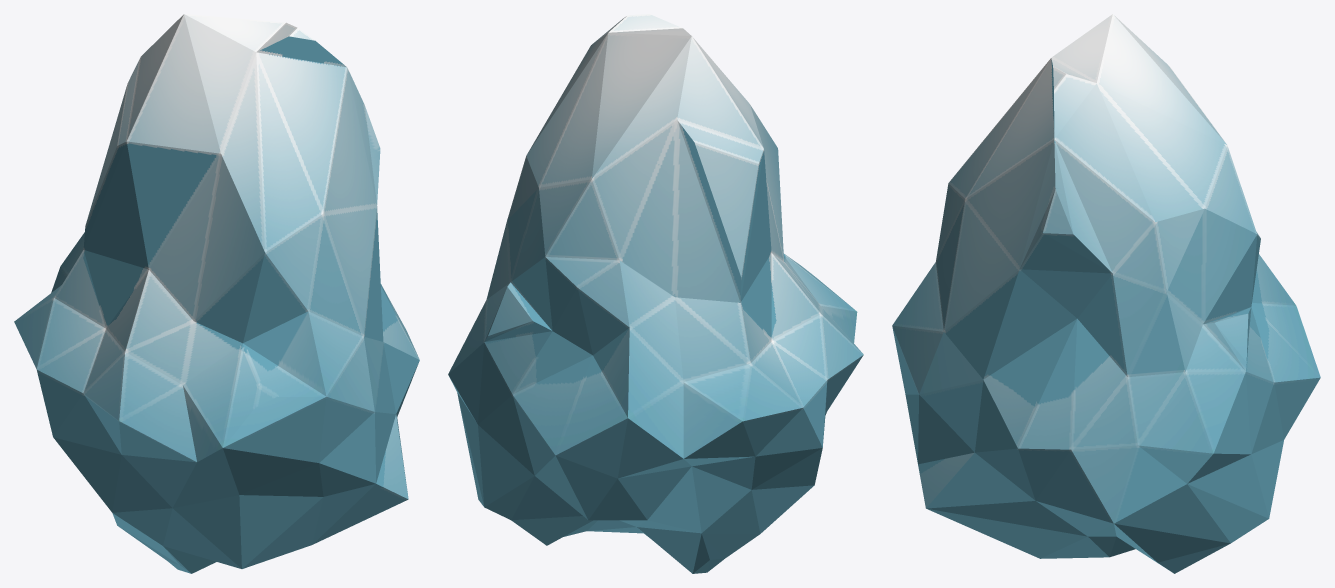
File: Iceberg.glb
The picture shows the model from 3 angles, left to right: view 1: azimuth 30°, elevation 25°; view 2: azimuth 150°, elevation 25°; view 3: azimuth 270°, elevation 25°; orthographic projection. The views are drawn at different scales.
Parts seen in each view (by area): view 1: iceberg.col; view 2: iceberg.col; view 3: iceberg.col.
Part boxes in pixels (x1,y1,x2,y2): iceberg.col: (14,14,419,573); iceberg.col: (448,14,863,573); iceberg.col: (892,14,1320,573).
Size of the model in its own units: 57.28 by 85.13 by 61.8.
Materials: 1 (1 with a texture image).
